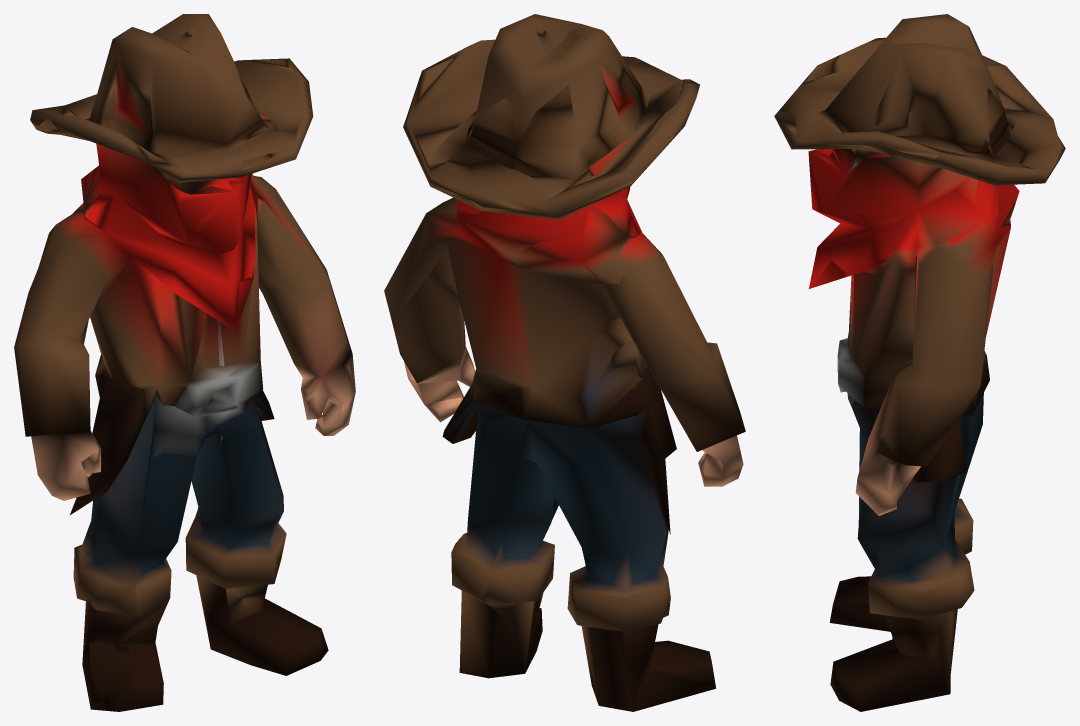
The model's file is gen3d-bandit-lod1.glb.
3 views of the same model, side by side, from view 1: azimuth 30°, elevation 25°; view 2: azimuth 150°, elevation 25°; view 3: azimuth 270°, elevation 25° (orthographic). The views are drawn at different scales.
Visible parts, largest first — view 1: part_0; view 2: part_0; view 3: part_0.
Part boxes in pixels (box(x1,y1,x2,y2)): part_0: box(14, 14, 355, 711); part_0: box(384, 14, 745, 711); part_0: box(774, 14, 1065, 711).
Size of the model in its own units: 0.5467 by 0.9998 by 0.4226.
